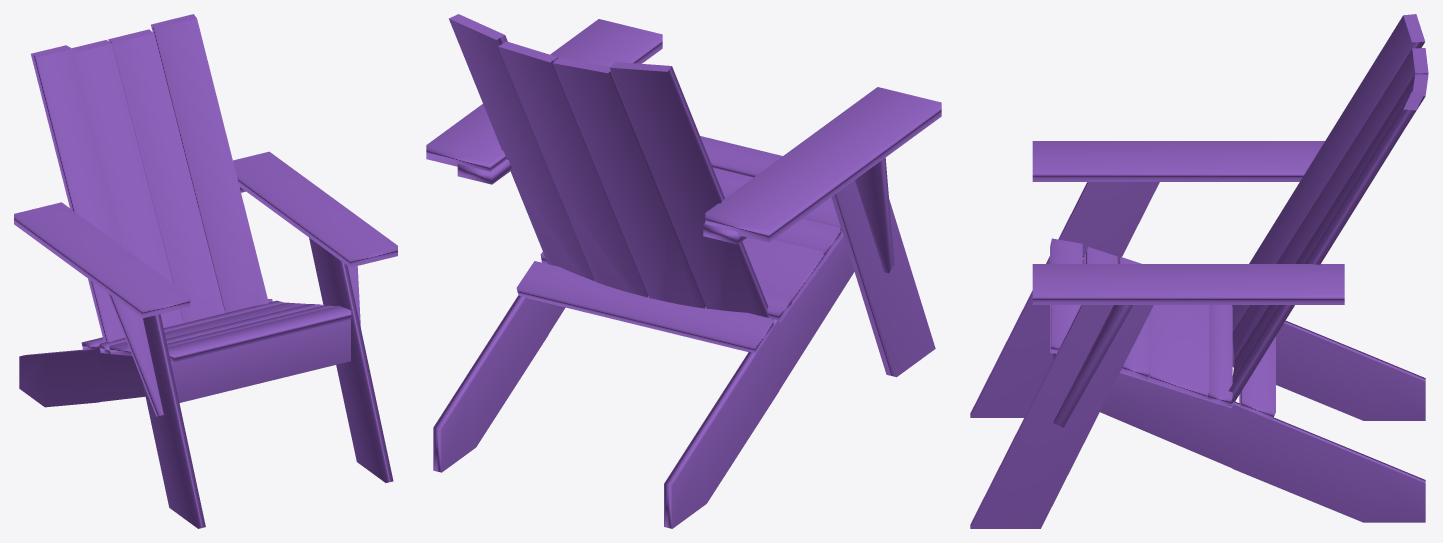
Rendered from fcd7eca6-f1f9-4a69-97ae-dc37068c8e98.glb.
3 views of the same model, side by side, from view 1: azimuth 30°, elevation 25°; view 2: azimuth 150°, elevation 25°; view 3: azimuth 270°, elevation 25° (orthographic). The views are drawn at different scales.
Visible parts, largest first — view 1: AdirondackChair.006; view 2: AdirondackChair.006; view 3: AdirondackChair.006.
Part boxes in pixels (left/top/right/bottom): AdirondackChair.006: left=14, top=14, right=397, bottom=528; AdirondackChair.006: left=426, top=14, right=941, bottom=528; AdirondackChair.006: left=970, top=14, right=1428, bottom=528.
Size of what is drawn, in the model's own units: 1.07 by 1.35 by 1.37.
Materials: 1 (1 with a texture image).
